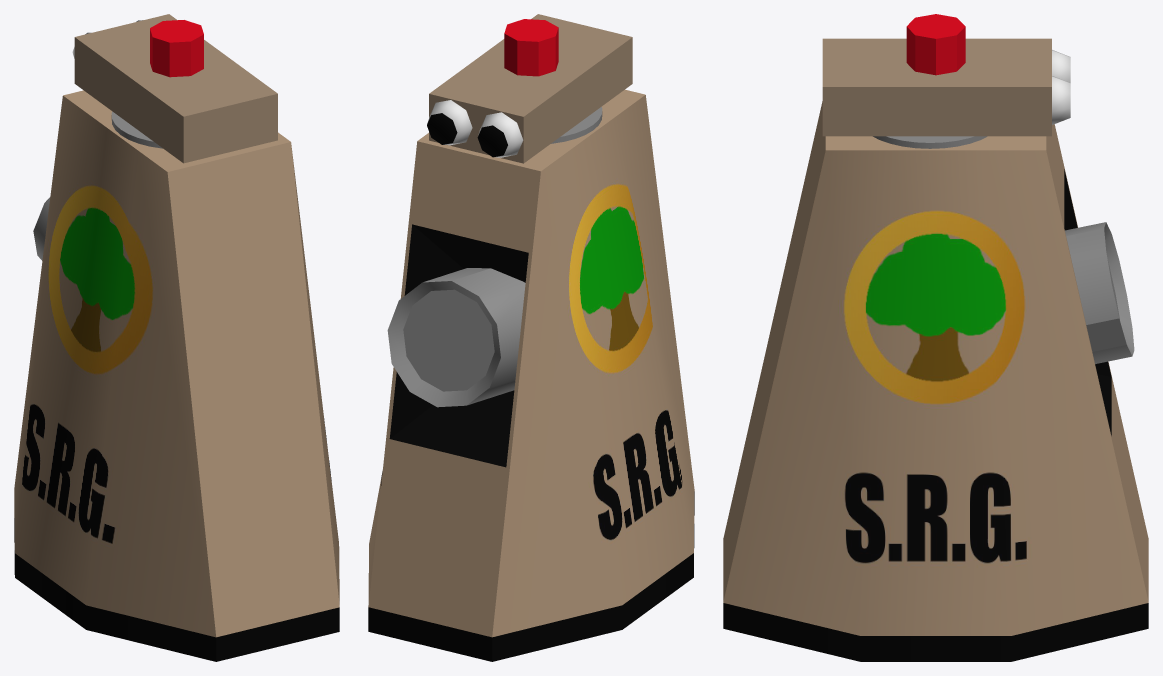
File: sarge.fbx
3 renders of one model, left to right at view 1: azimuth 30°, elevation 25°; view 2: azimuth 150°, elevation 25°; view 3: azimuth 270°, elevation 25°, orthographic. The views are drawn at different scales.
Visible parts, largest first — view 1: body, head, Cannon; view 2: body, head, Cannon, eye_R, eye_L; view 3: body, head, Cannon, eye_L.
Part boxes in pixels (x1=…): body: x1=14, y1=90, x2=339, y2=661; head: x1=74, y1=14, x2=277, y2=163; Cannon: x1=33, y1=197, x2=50, y2=260; body: x1=368, y1=89, x2=694, y2=661; head: x1=429, y1=14, x2=632, y2=163; Cannon: x1=387, y1=268, x2=525, y2=407; eye_R: x1=477, y1=112, x2=523, y2=157; eye_L: x1=427, y1=100, x2=472, y2=145; body: x1=723, y1=101, x2=1148, y2=661; head: x1=822, y1=14, x2=1051, y2=148; Cannon: x1=1065, y1=222, x2=1134, y2=363; eye_L: x1=1052, y1=76, x2=1070, y2=124.
Size of the model in its own units: 59.7 by 122 by 82.59.
